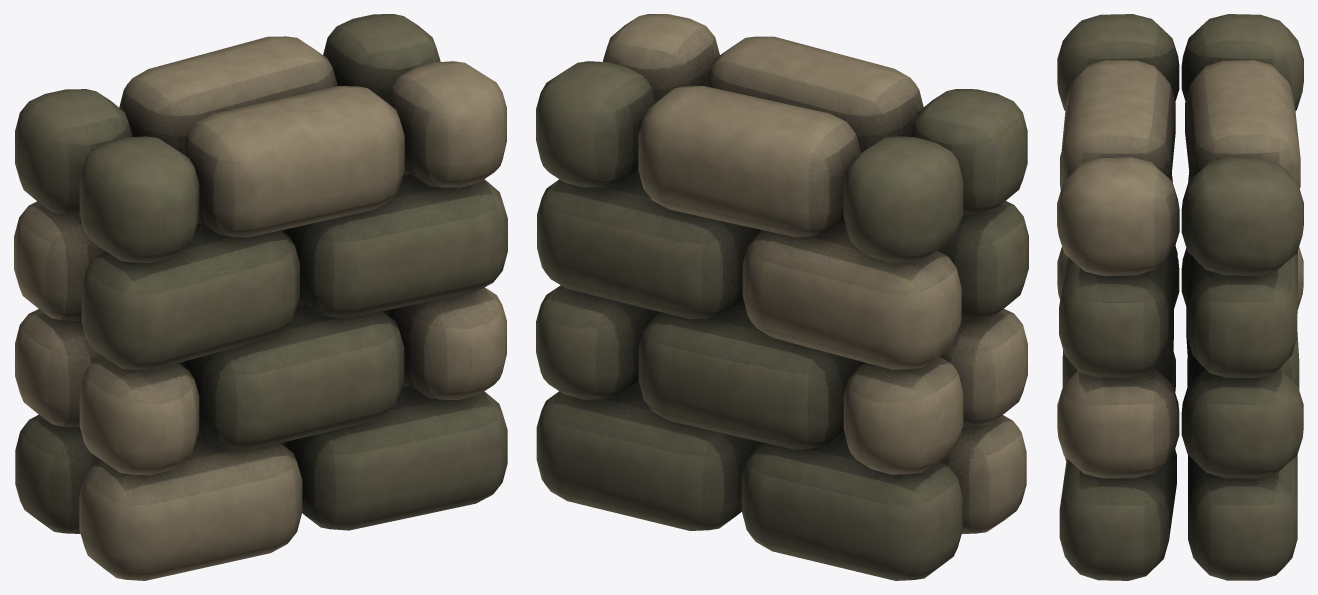
The model's file is sandbags_1m.glb.
The picture shows the model from 3 angles, left to right: view 1: azimuth 30°, elevation 25°; view 2: azimuth 150°, elevation 25°; view 3: azimuth 270°, elevation 25°; orthographic projection. The views are drawn at different scales.
Parts seen in each view (by area): view 1: sandbags_1m; view 2: sandbags_1m; view 3: sandbags_1m.
Part boxes in pixels (x1,y1,x2,y2): sandbags_1m: [14, 14, 507, 580]; sandbags_1m: [536, 14, 1028, 580]; sandbags_1m: [1057, 14, 1303, 580].
Size of the model in its own units: 0.9835 by 0.989 by 0.5453.
1 material, 1 textured.
